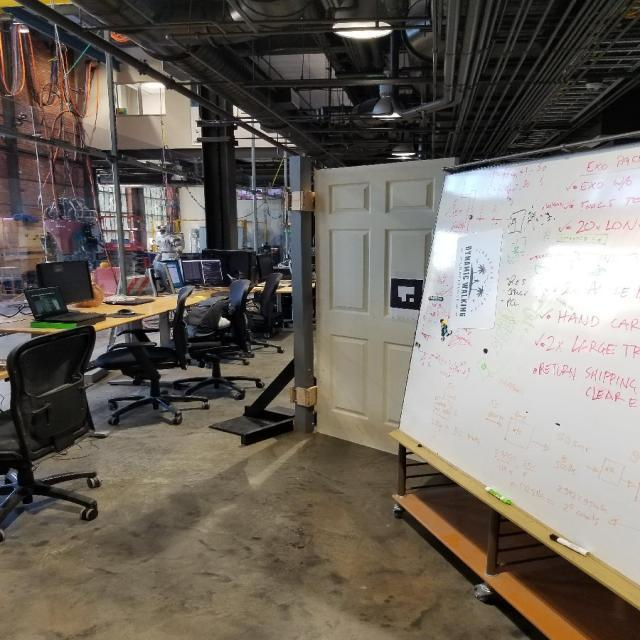door: (312, 155, 460, 471)
